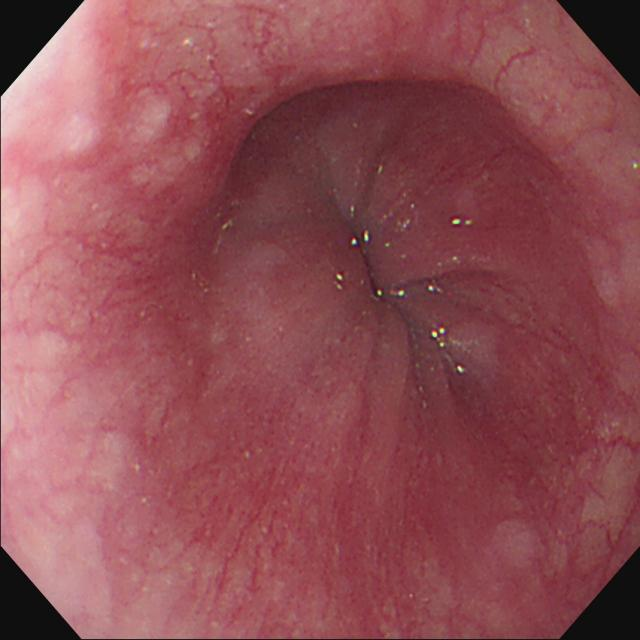I: (262, 132, 542, 448)
